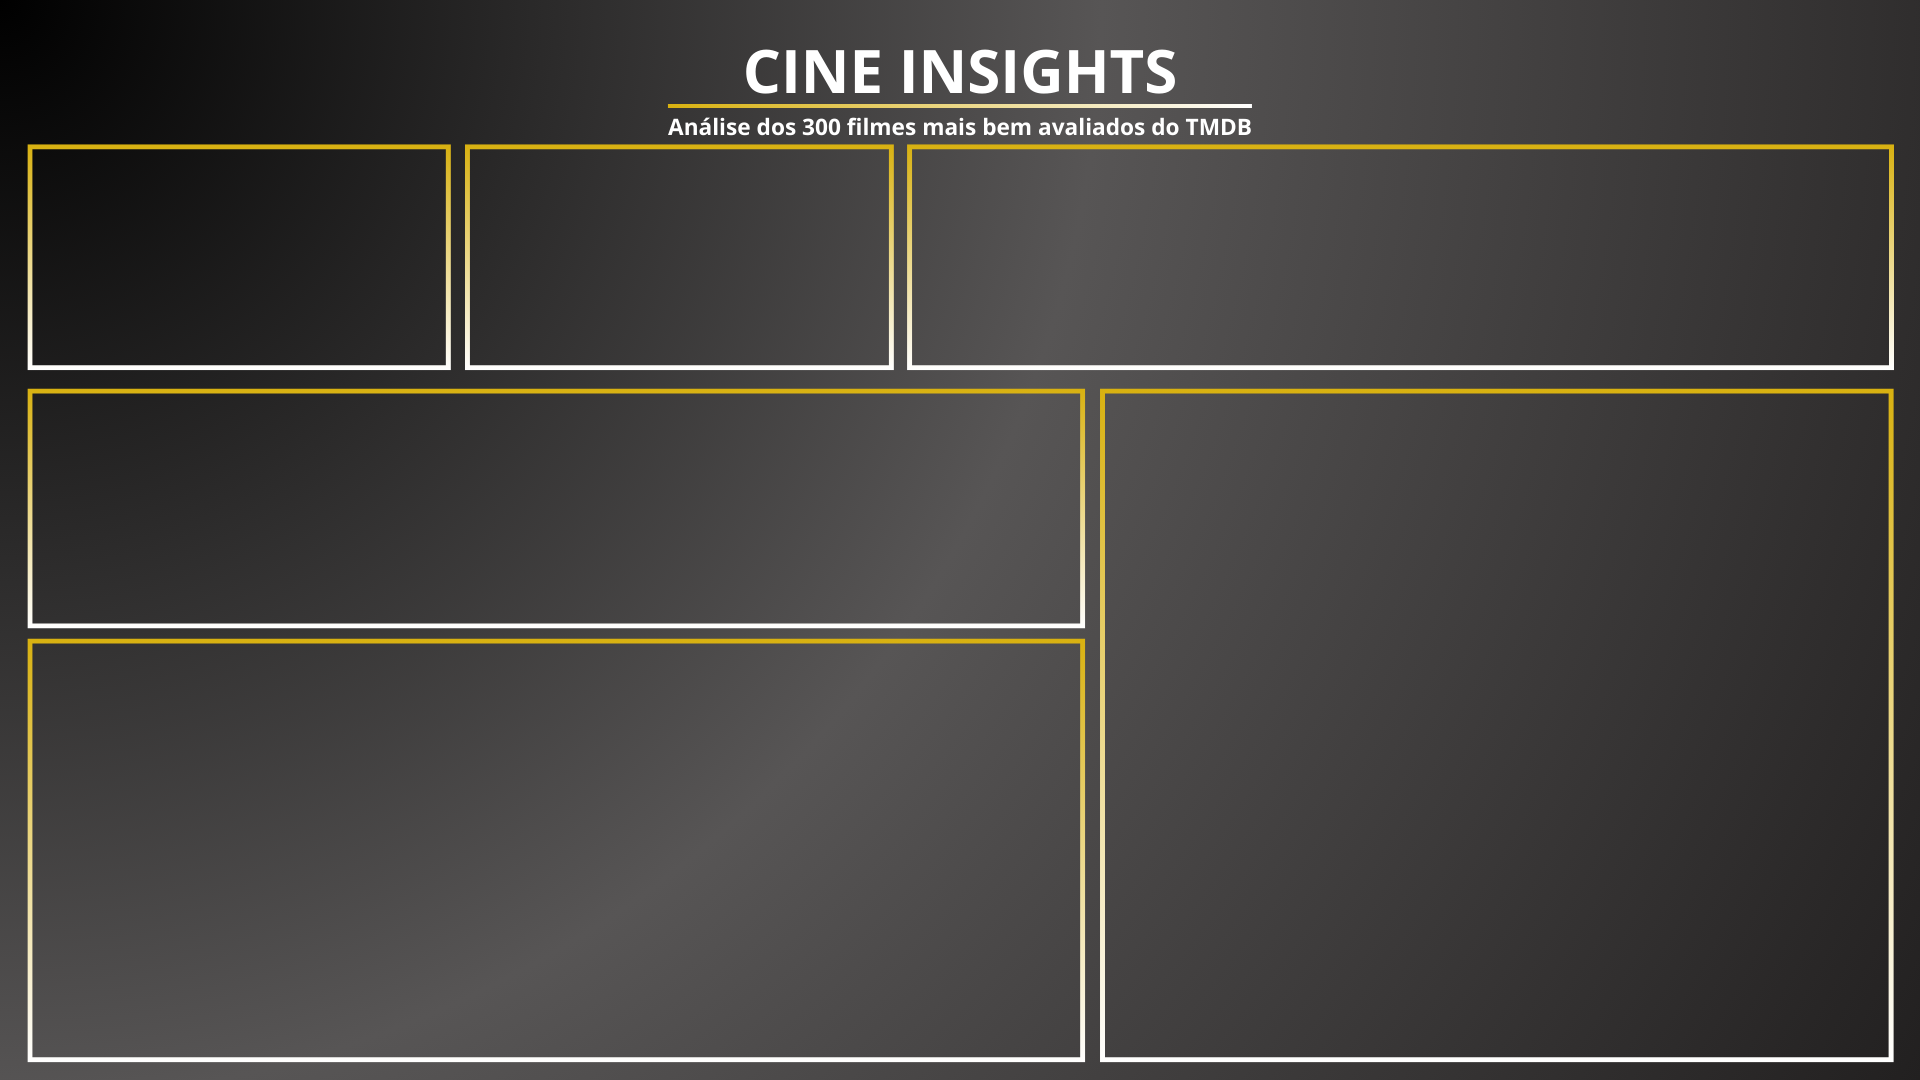

Layout of this report page (visuals, bound fields, positions):
{"tool":"powerbi","page":{"name":"Visão Geral","canvas":[1280,720],"ordinal":0},"visuals":[{"type":"gauge","title":"Avaliação média geral","fields":{"Y":["Avg(tabela_mestra_filmes.nota_media)"],"MaxValue":["tabela_mestra_filmes.Medida"]},"box":[25.3,102.1,266.5,141],"z":0},{"type":"lineChart","title":"Avaliação média dos filmes por década","fields":{"Category":["DimDécadas.Década_Label"],"Y":["Avg(tabela_mestra_filmes.nota_media)"]},"box":[605,107,655.6,132.3],"z":1000},{"type":"columnChart","fields":{"Category":["generos_melhores.genero"],"Y":["Sum(generos_melhores.nota_media)"]},"box":[23.3,265.5,708.1,150.8],"z":2000},{"type":"barChart","title":"Diretores com mais filmes no TOP 300","fields":{"Category":["tabela_mestra_filmes.diretor"],"Y":["CountNonNull(tabela_mestra_filmes.titulo)"]},"box":[7.8,428.9,708.1,274.3],"z":3000},{"type":"card","fields":{"Values":["Sum(tabela_mestra_filmes.votos)"]},"box":[319,107,269.4,133.3],"z":4000},{"type":"donutChart","title":"Quantidade de filmes por Idioma","fields":{"Category":["tabela_mestra_filmes.idioma"],"Y":["CountNonNull(tabela_mestra_filmes.titulo)"]},"box":[731.4,270.4,529.1,427],"z":5000}]}

Visuals, with their boxes in screenshot pixels (x1, y1, x2, y2), scaled from the page's 1280x720 canvas onto the 1920x1080 screenshot:
"Avaliação média geral" gauge: bbox(38, 153, 438, 365)
"Avaliação média dos filmes por década" lineChart: bbox(908, 160, 1891, 359)
columnChart - generos_melhores.genero x Sum(generos_melhores.nota_media): bbox(35, 398, 1097, 624)
"Diretores com mais filmes no TOP 300" barChart: bbox(12, 643, 1074, 1055)
card - Sum(tabela_mestra_filmes.votos): bbox(478, 160, 883, 360)
"Quantidade de filmes por Idioma" donutChart: bbox(1097, 406, 1891, 1046)
